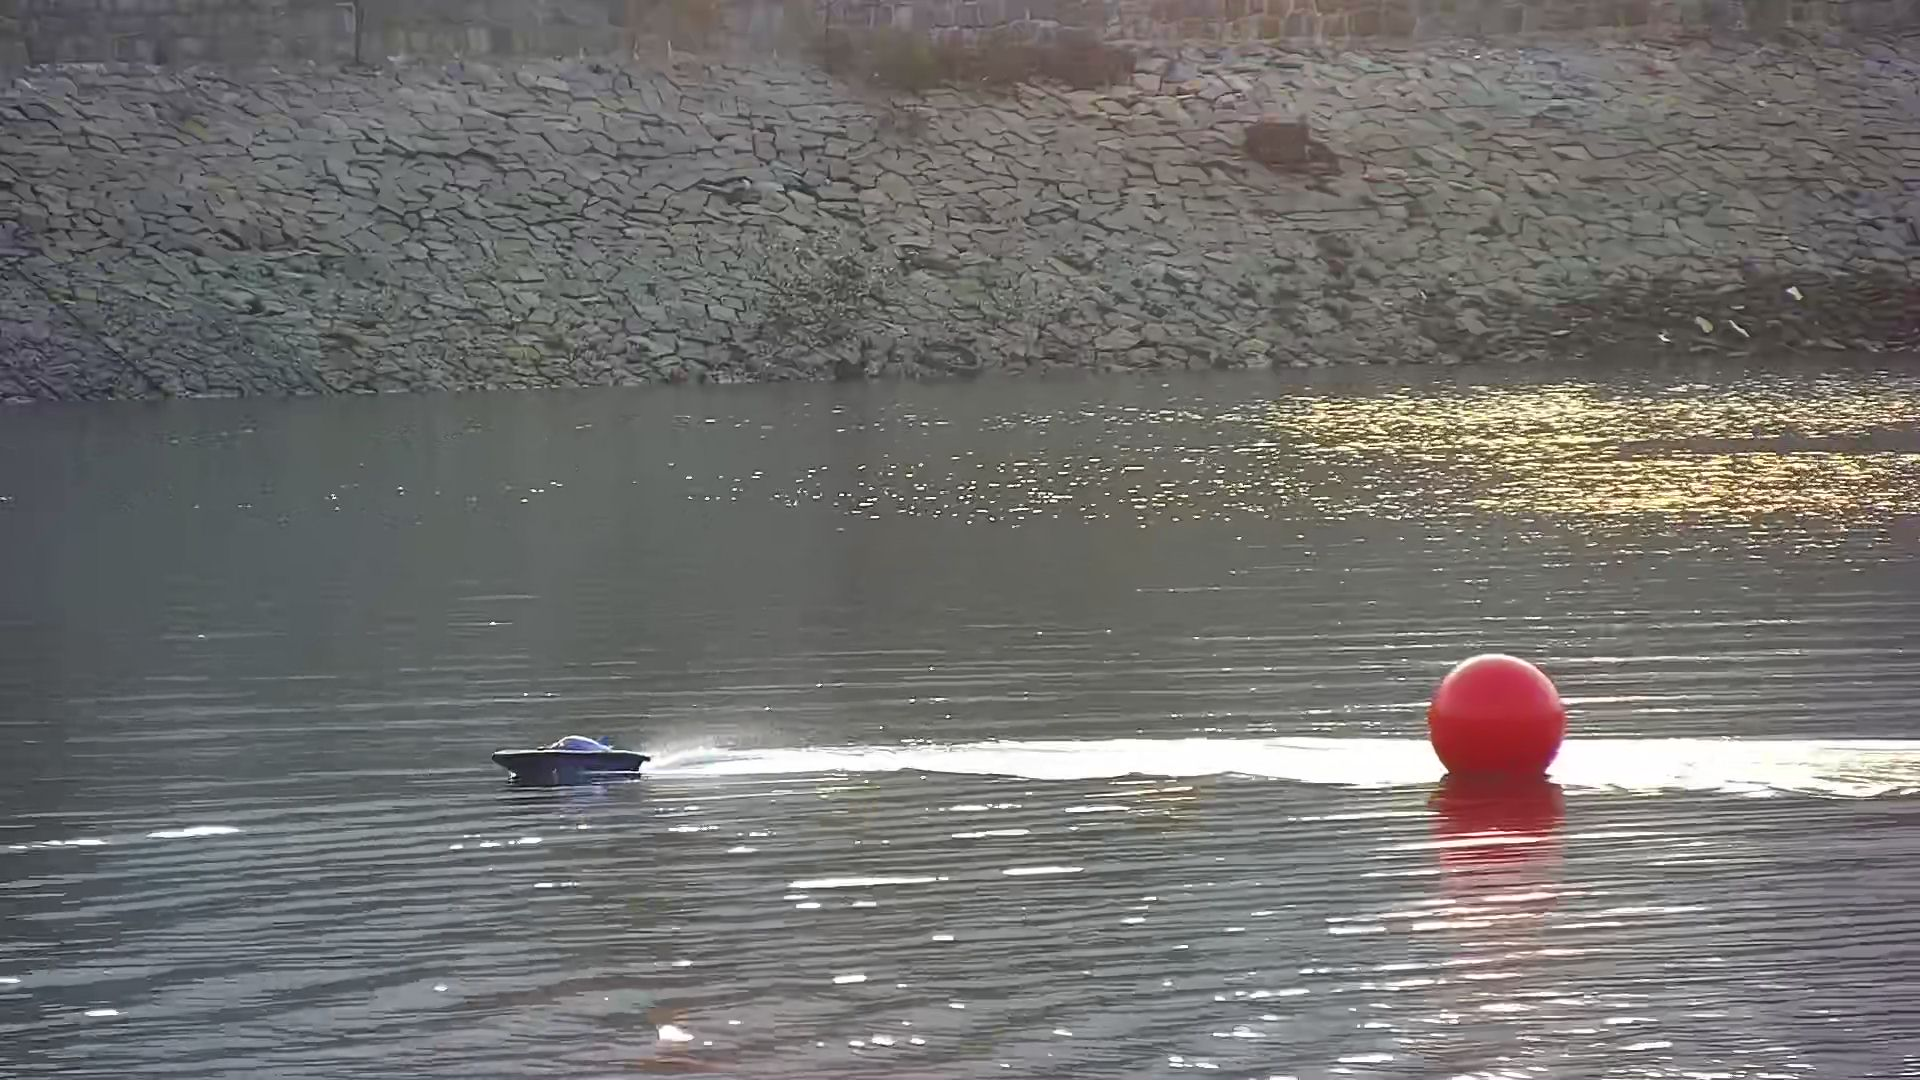ball: (1431, 650, 1568, 785)
boat: (491, 725, 650, 783)
